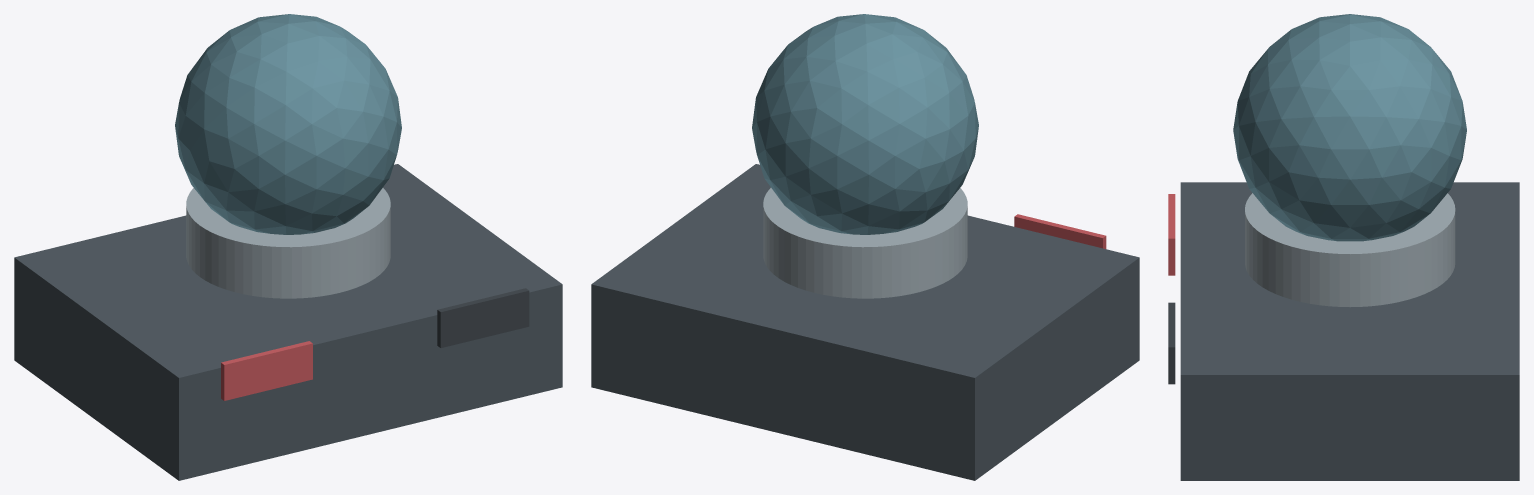
File: led_module_lod0.glb
3 renders of one model, left to right at view 1: azimuth 30°, elevation 25°; view 2: azimuth 150°, elevation 25°; view 3: azimuth 270°, elevation 25°, orthographic. The views are drawn at different scales.
Parts seen in each view (by area): view 1: LED_BASE_MAT_POLYMER_BLACK, LED_LENS_MAT_GLASS, LED_RIM_MAT_METAL_BRUSHED, LED_CATHODE_LABEL_MAT_BLACK, LED_ANODE_LABEL_MAT_RED; view 2: LED_BASE_MAT_POLYMER_BLACK, LED_LENS_MAT_GLASS, LED_RIM_MAT_METAL_BRUSHED, LED_ANODE_LABEL_MAT_RED; view 3: LED_BASE_MAT_POLYMER_BLACK, LED_LENS_MAT_GLASS, LED_RIM_MAT_METAL_BRUSHED, LED_CATHODE_LABEL_MAT_BLACK, LED_ANODE_LABEL_MAT_RED.
Boxes of the visible parts, x1,y1,x2,y2 form: LED_BASE_MAT_POLYMER_BLACK: (14,164,562,480); LED_LENS_MAT_GLASS: (175,14,401,234); LED_RIM_MAT_METAL_BRUSHED: (186,188,390,298); LED_CATHODE_LABEL_MAT_BLACK: (437,288,529,347); LED_ANODE_LABEL_MAT_RED: (221,341,312,400); LED_BASE_MAT_POLYMER_BLACK: (591,164,1139,480); LED_LENS_MAT_GLASS: (752,14,978,234); LED_RIM_MAT_METAL_BRUSHED: (763,188,967,298); LED_ANODE_LABEL_MAT_RED: (1014,214,1106,248); LED_BASE_MAT_POLYMER_BLACK: (1180,182,1519,480); LED_LENS_MAT_GLASS: (1233,14,1466,241); LED_RIM_MAT_METAL_BRUSHED: (1245,193,1455,307); LED_CATHODE_LABEL_MAT_BLACK: (1168,302,1175,384); LED_ANODE_LABEL_MAT_RED: (1168,194,1175,275).
Bounding box in the file's own units: 0.78 × 0.68 × 0.601.
